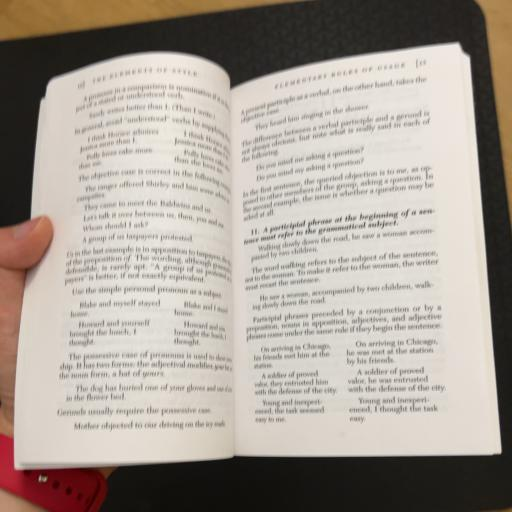paper: (16, 24, 512, 485)
